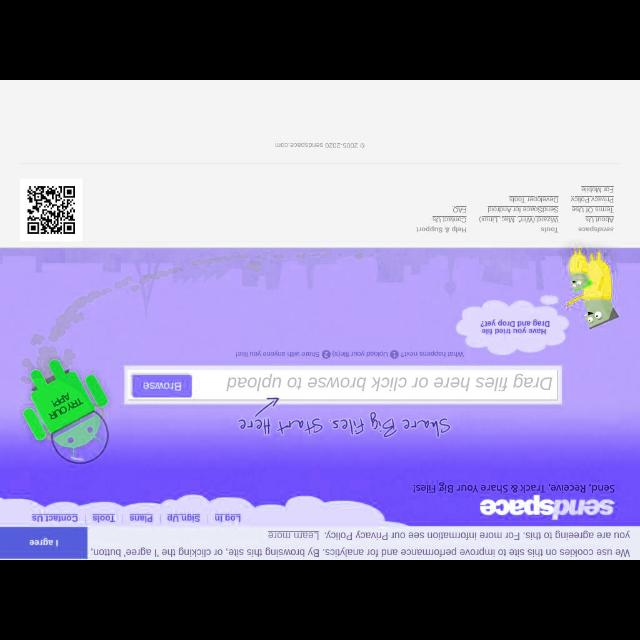backgroundimage: (1, 249, 639, 525)
image: (21, 178, 83, 242), (479, 494, 615, 520)
input: (127, 370, 557, 400)
text: (90, 530, 630, 558), (226, 374, 552, 392), (413, 483, 614, 493), (479, 215, 558, 222), (275, 142, 365, 148), (488, 207, 558, 213), (416, 226, 466, 234), (32, 514, 78, 522), (144, 382, 180, 391), (570, 195, 614, 202), (508, 196, 558, 202), (571, 205, 613, 212), (167, 514, 201, 522), (432, 215, 466, 222), (30, 538, 58, 546), (214, 514, 242, 522), (578, 226, 614, 232), (580, 187, 614, 193), (129, 514, 153, 522), (584, 217, 614, 223), (93, 515, 115, 523), (540, 227, 558, 233), (452, 205, 466, 212)
textbutton: (1, 528, 87, 558), (132, 374, 192, 398)
